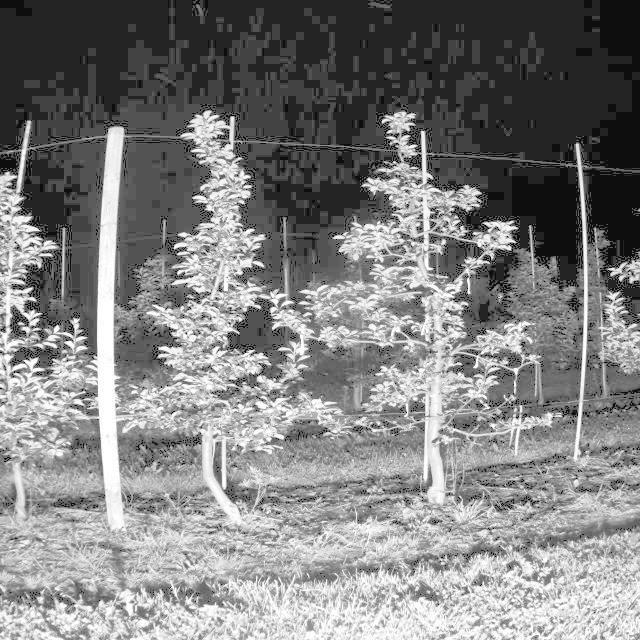Tree: (148, 113, 327, 527), (375, 110, 502, 505), (0, 172, 85, 516)
